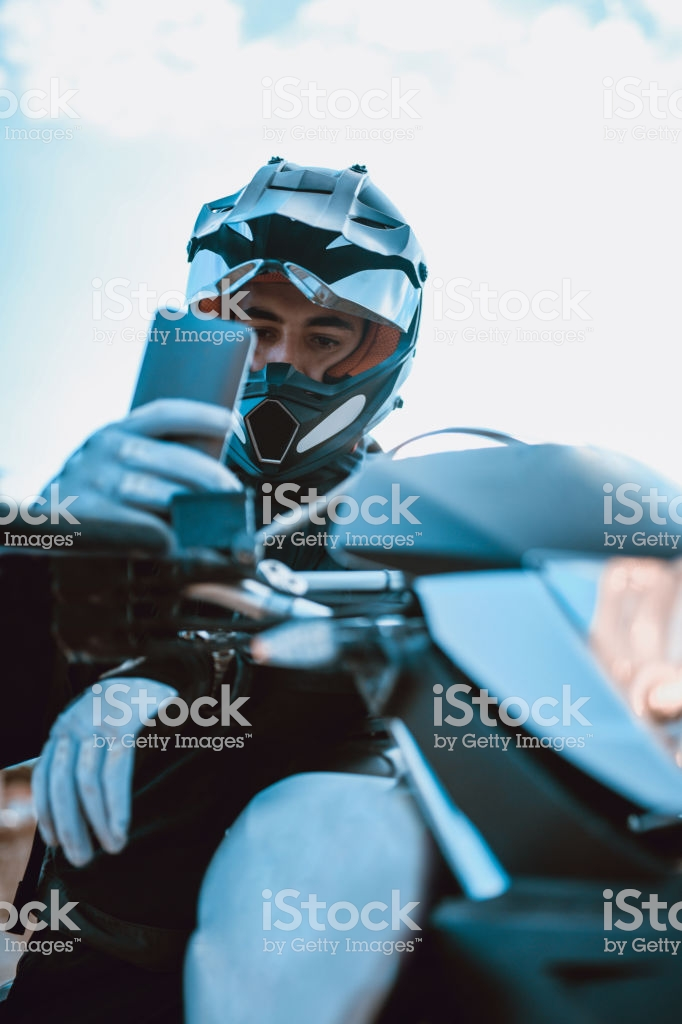helmet: (171, 145, 449, 506)
